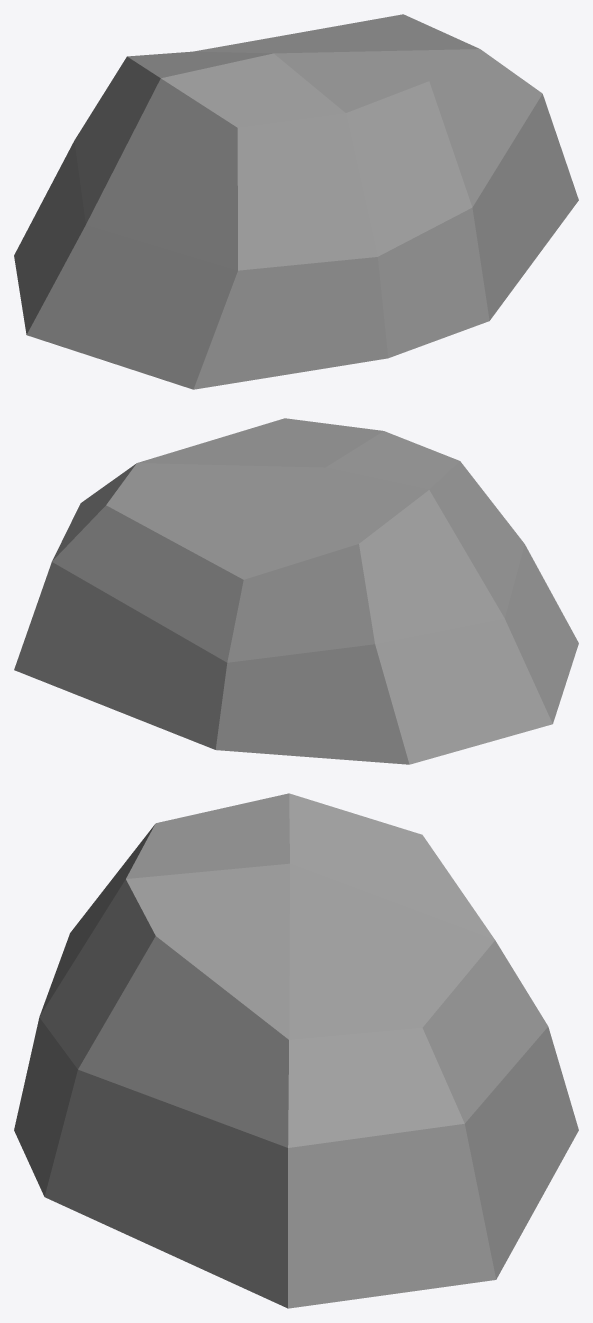
Rendered from rock01__mesh_LOD.fbx.
The picture shows the model from 3 angles, top to bottom: view 1: azimuth 30°, elevation 25°; view 2: azimuth 150°, elevation 25°; view 3: azimuth 270°, elevation 25°; orthographic projection. The views are drawn at different scales.
Parts seen in each view (by area): view 1: rock01__mesh_LOD0; view 2: rock01__mesh_LOD0; view 3: rock01__mesh_LOD0.
Boxes of the visible parts, bbox=[...] form: rock01__mesh_LOD0: bbox=[14, 14, 578, 389]; rock01__mesh_LOD0: bbox=[14, 418, 578, 764]; rock01__mesh_LOD0: bbox=[14, 793, 578, 1308].
Size of what is drawn, in the model's own units: 484 by 188 by 356.
1 material, 1 textured.
